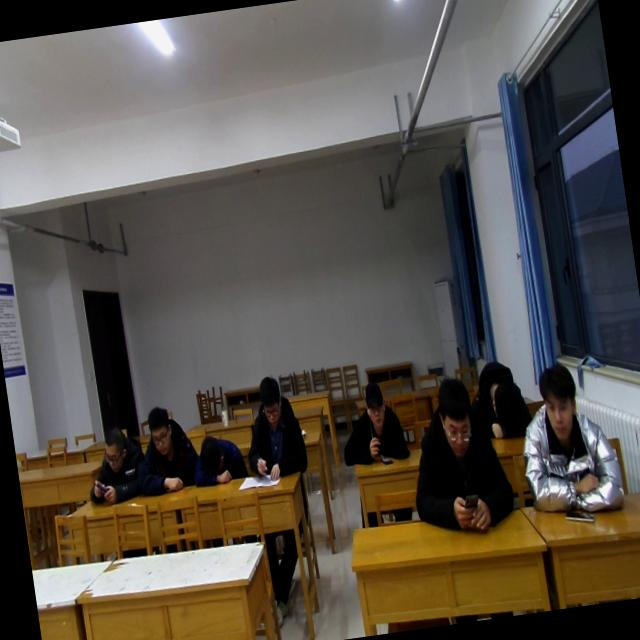bow: (128, 404, 203, 496), (80, 421, 152, 507), (468, 358, 536, 446), (188, 431, 250, 487)
down: (432, 374, 478, 458), (254, 372, 286, 430), (142, 400, 174, 454), (99, 423, 129, 476)
lookup: (534, 355, 582, 443), (359, 378, 388, 432)
sit: (398, 366, 519, 540), (511, 355, 630, 530), (333, 376, 417, 528), (237, 374, 310, 484)
